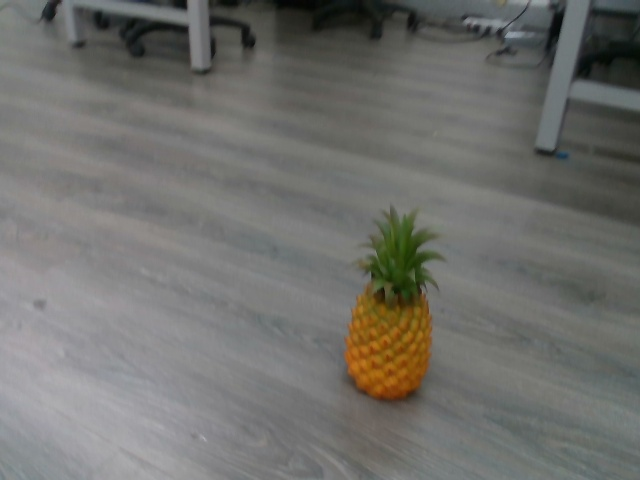pineapple: (342, 200, 453, 402)
